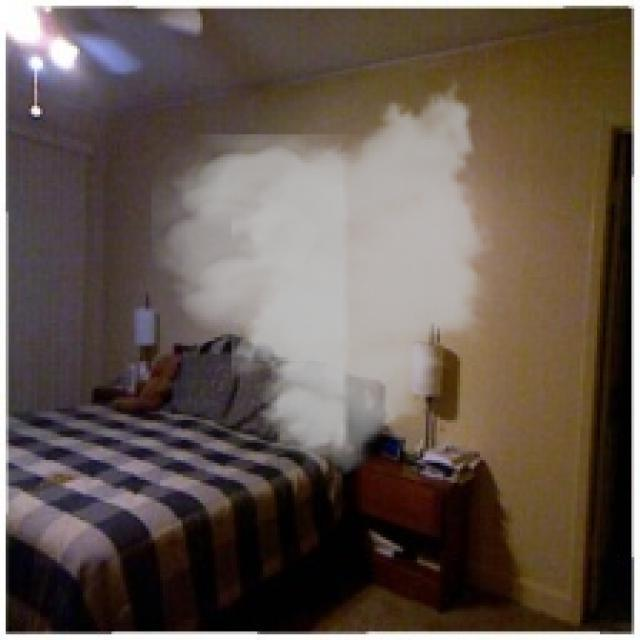Smoke: (152, 71, 497, 486)
